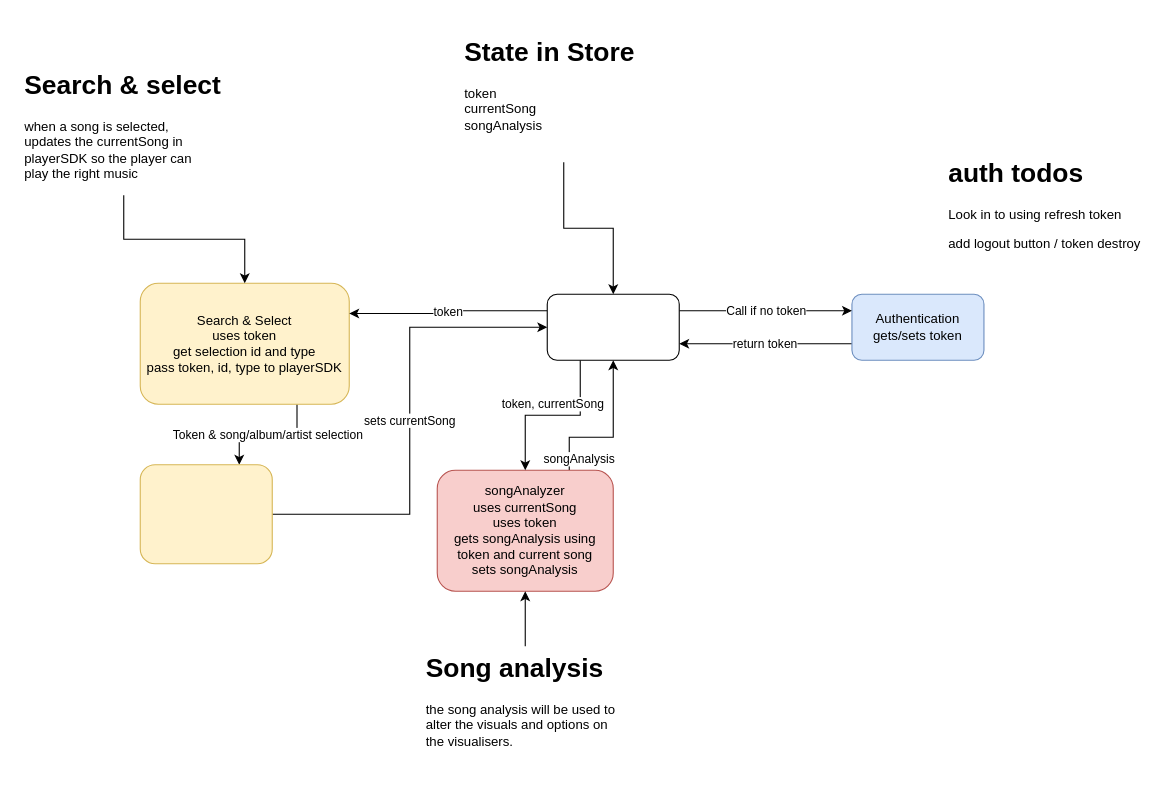
Image size: 1170x796. Some labels were removed from this diagram. The shapes that lost their labels are listed below. From the top down, each one's box as (x1, y1, x2, y2) in pixels, then its label:
(546, 293, 679, 360): Store app.js
(139, 464, 272, 564): playerSDK uses token uses selected type and id to play music
